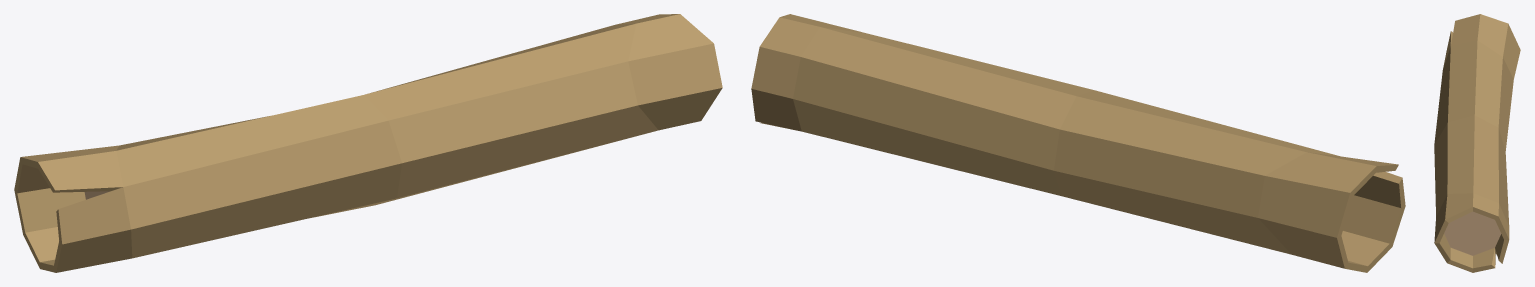
Rendered from Acacia_Log_07_LOD.fbx.
3 renders of one model, left to right at view 1: azimuth 30°, elevation 25°; view 2: azimuth 150°, elevation 25°; view 3: azimuth 270°, elevation 25°, orthographic. The views are drawn at different scales.
Visible parts, largest first — view 1: Acacia_Log_07_LOD0; view 2: Acacia_Log_07_LOD0; view 3: Acacia_Log_07_LOD0.
Boxes of the visible parts, x1=… form: Acacia_Log_07_LOD0: x1=14, y1=14, x2=722, y2=272; Acacia_Log_07_LOD0: x1=751, y1=14, x2=1405, y2=272; Acacia_Log_07_LOD0: x1=1434, y1=14, x2=1520, y2=272.
Size of what is drawn, in the model's own units: 249 by 41.45 by 46.45.
